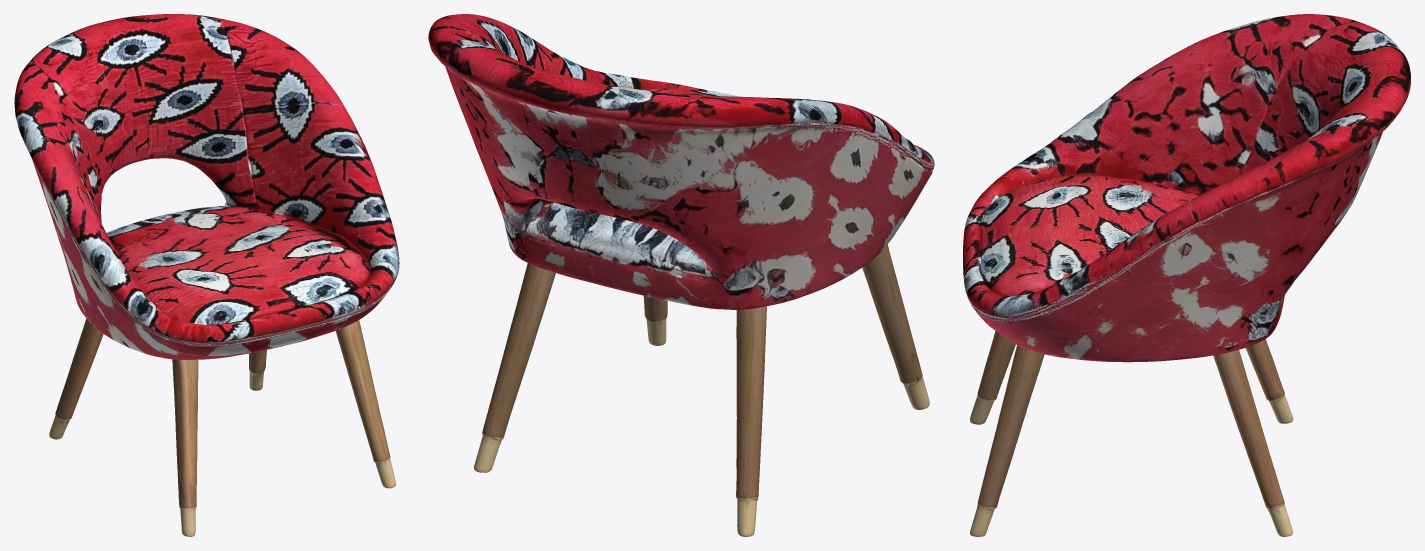
The picture shows the model from 3 angles, left to right: view 1: azimuth 30°, elevation 25°; view 2: azimuth 150°, elevation 25°; view 3: azimuth 270°, elevation 25°; orthographic projection. The views are drawn at different scales.
Visible parts, largest first — view 1: model; view 2: model; view 3: model.
Boxes of the visible parts, box(x1,y1,x2,y2) form: model: box(14, 14, 399, 536); model: box(428, 14, 934, 536); model: box(963, 14, 1410, 536).
Size of the model in its own units: 0.6333 by 0.72 by 0.7095.
1 material, 1 textured.
